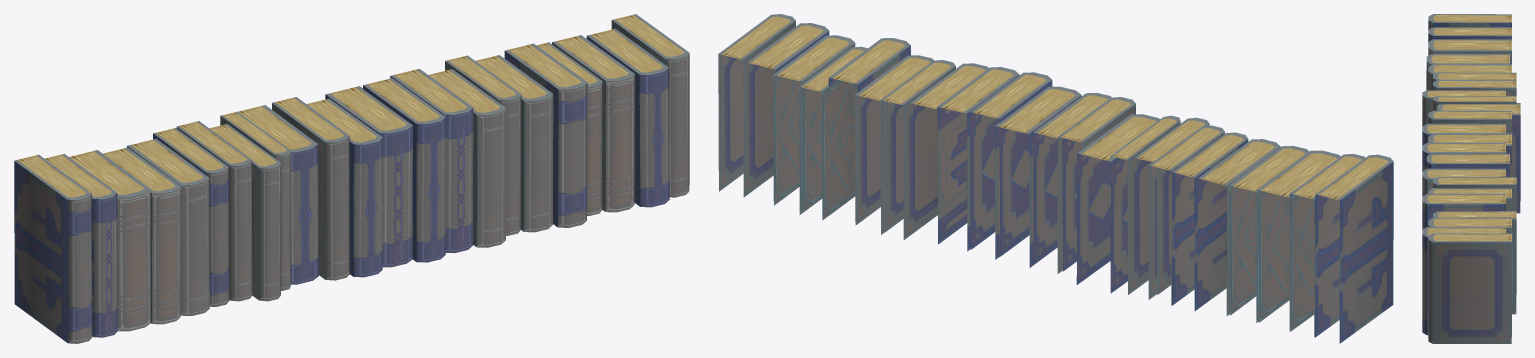
Rendered from BookGroup_Large_3.fbx.
3 renders of one model, left to right at view 1: azimuth 30°, elevation 25°; view 2: azimuth 150°, elevation 25°; view 3: azimuth 270°, elevation 25°, orthographic. The views are drawn at different scales.
Visible parts, largest first — view 1: BookGroup_Large_3; view 2: BookGroup_Large_3; view 3: BookGroup_Large_3.
Boxes of the visible parts, box(x1,y1,x2,y2) form: BookGroup_Large_3: box(14, 14, 689, 343); BookGroup_Large_3: box(718, 14, 1393, 343); BookGroup_Large_3: box(1422, 14, 1520, 343).
Size of the model in its own units: 133 by 29.49 by 24.75.
